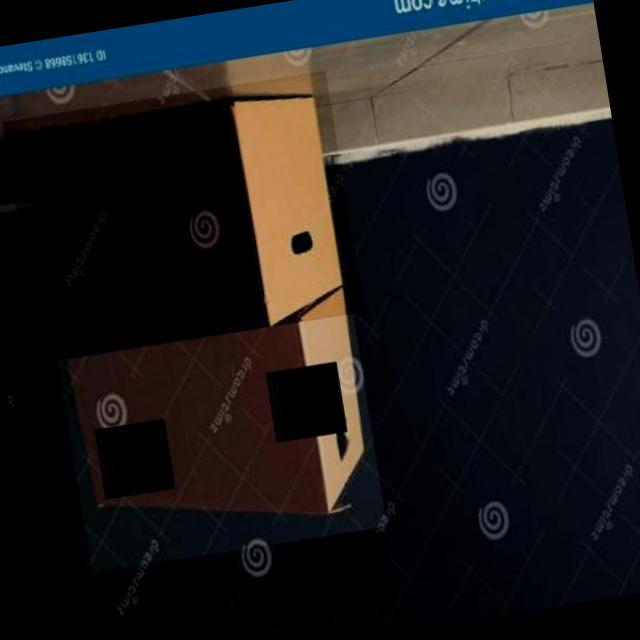box: (2, 70, 364, 364), (54, 286, 387, 574)
